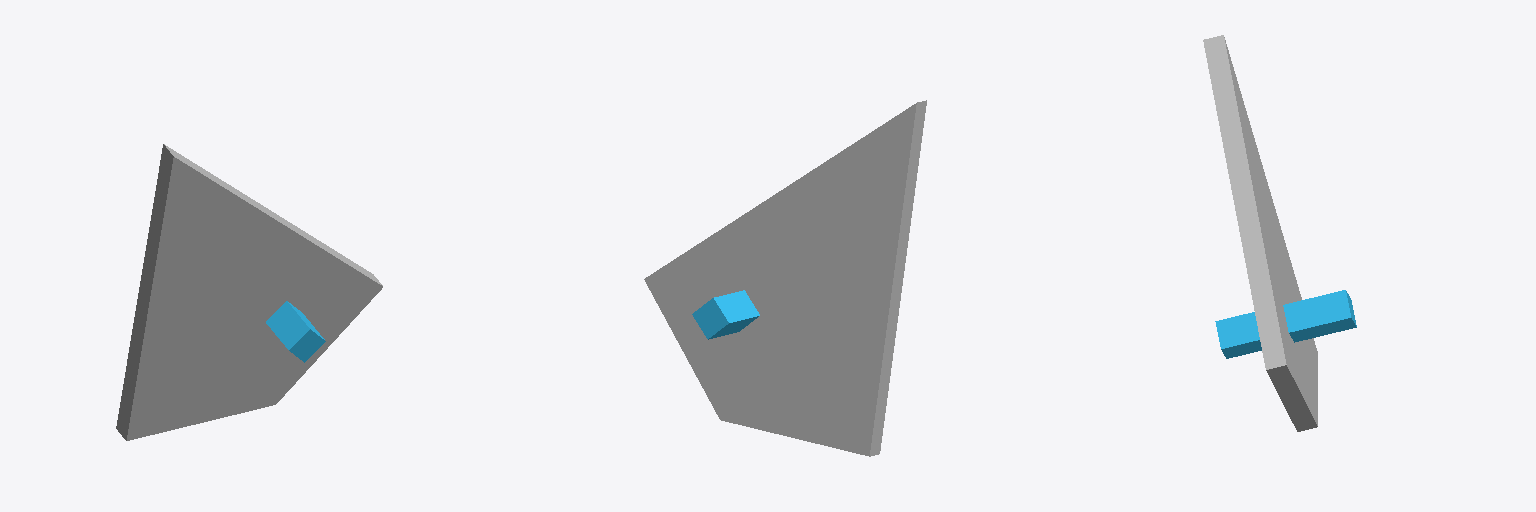
Rendered from shop_1031.obj.
3 renders of one model, left to right at view 1: azimuth 30°, elevation 25°; view 2: azimuth 150°, elevation 25°; view 3: azimuth 270°, elevation 25°, orthographic.
Visible parts, largest first — view 1: 1031 110959 PL8x103 SCHETSPLAAT S235JR, M16x40 1   8.8 110964; view 2: 1031 110959 PL8x103 SCHETSPLAAT S235JR, M16x40 1   8.8 110964; view 3: 1031 110959 PL8x103 SCHETSPLAAT S235JR, M16x40 1   8.8 110964.
Boxes of the visible parts, x1,y1,x2,y2 form: 1031 110959 PL8x103 SCHETSPLAAT S235JR: [116, 144, 382, 440]; M16x40 1   8.8 110964: [266, 301, 325, 362]; 1031 110959 PL8x103 SCHETSPLAAT S235JR: [644, 100, 926, 456]; M16x40 1   8.8 110964: [692, 290, 759, 339]; 1031 110959 PL8x103 SCHETSPLAAT S235JR: [1203, 35, 1317, 431]; M16x40 1   8.8 110964: [1215, 290, 1356, 358].
Bounding box in the file's own units: 103 × 133 × 57.